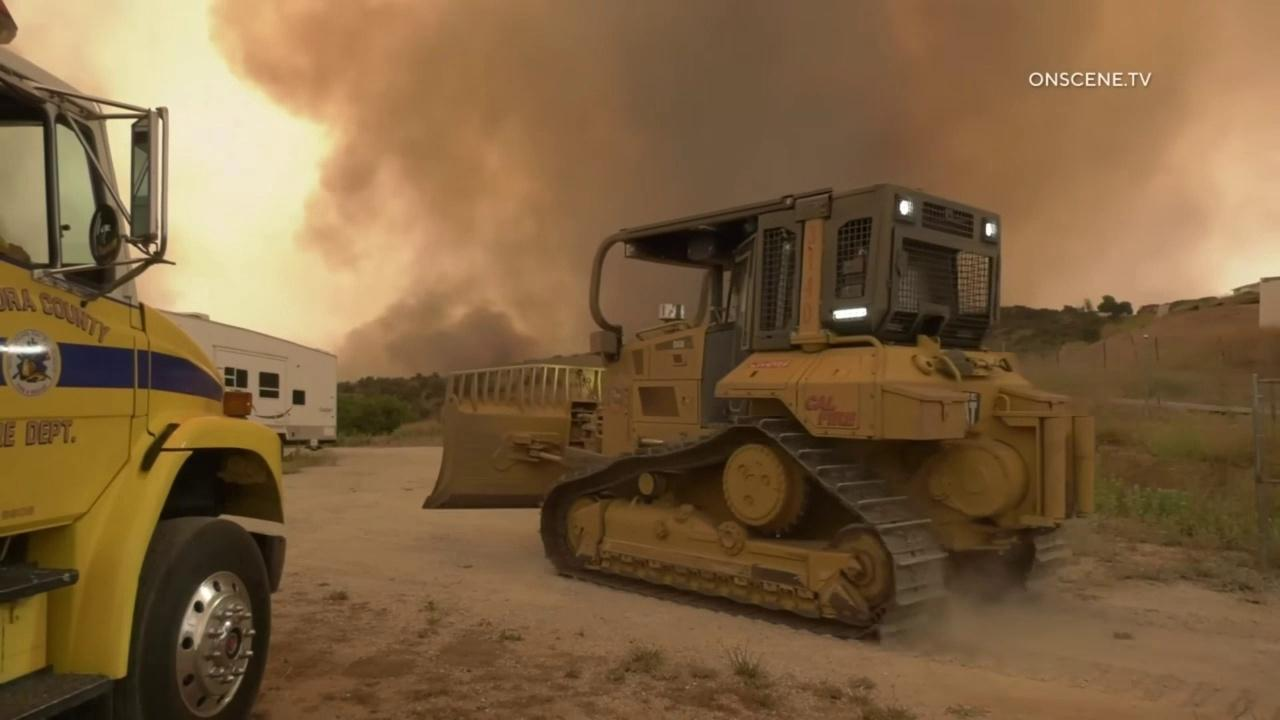smoke: (210, 0, 1280, 385)
